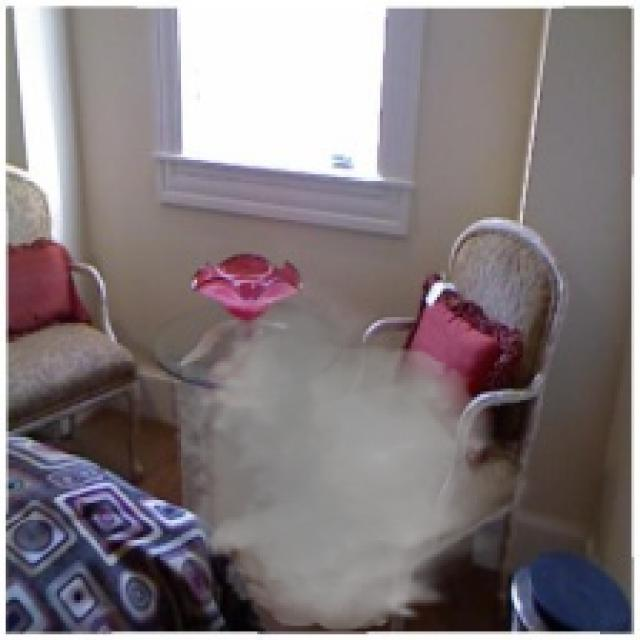smoke: (157, 277, 543, 637)
